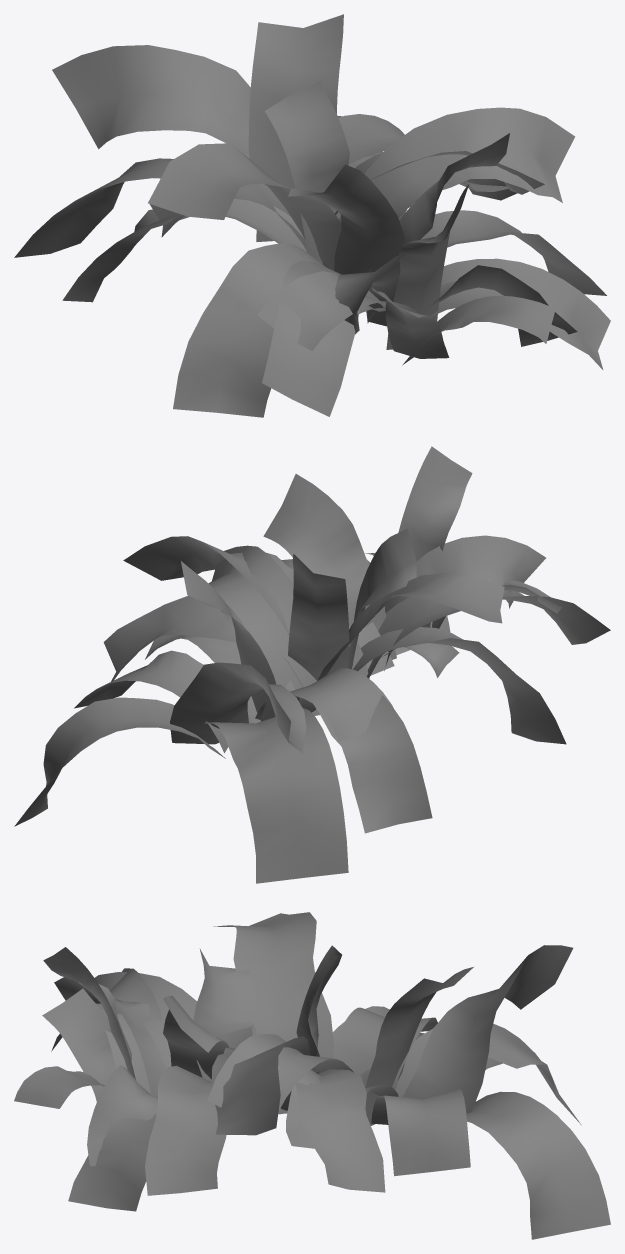
The model's file is fern.glb.
The picture shows the model from 3 angles, top to bottom: view 1: azimuth 30°, elevation 25°; view 2: azimuth 150°, elevation 25°; view 3: azimuth 270°, elevation 25°; orthographic projection. The views are drawn at different scales.
Parts seen in each view (by area): view 1: Polypodium_vulgare_HD; view 2: Polypodium_vulgare_HD; view 3: Polypodium_vulgare_HD.
Boxes of the visible parts, left/top/right/bottom form: Polypodium_vulgare_HD: left=14, top=14, right=610, bottom=417; Polypodium_vulgare_HD: left=14, top=446, right=610, bottom=883; Polypodium_vulgare_HD: left=14, top=912, right=610, bottom=1239.
Size of the model in its own units: 0.6321 by 0.3409 by 0.8237.
Materials: 3 (3 with a texture image).
